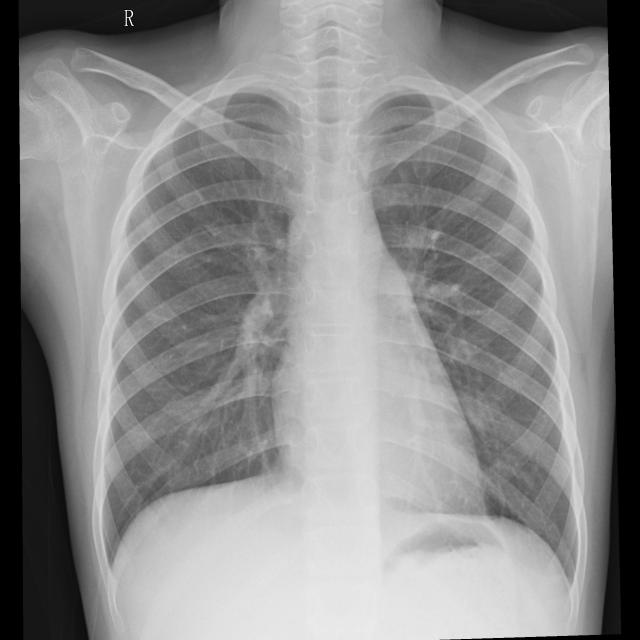no-pneumonia: (362, 93, 581, 583), (104, 86, 308, 560)
